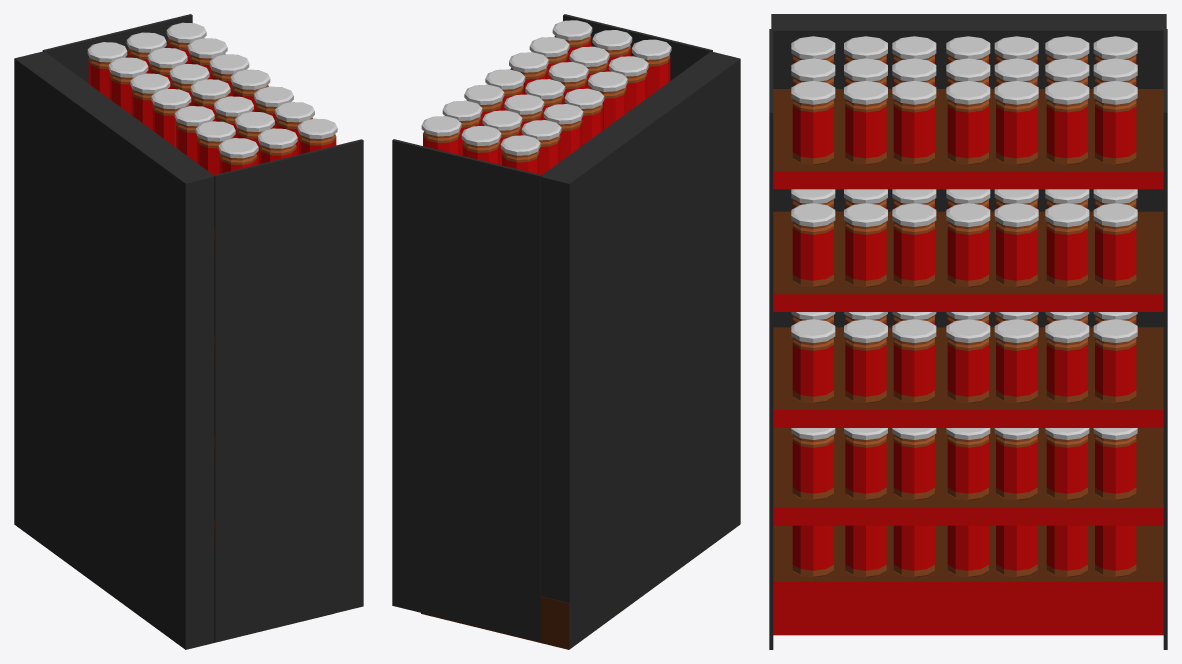
Rendered from Jar_red_shelf.fbx.
The picture shows the model from 3 angles, left to right: view 1: azimuth 30°, elevation 25°; view 2: azimuth 150°, elevation 25°; view 3: azimuth 270°, elevation 25°; orthographic projection. The views are drawn at different scales.
Parts seen in each view (by area): view 1: pCube2, pCube46, pCube7, jar_red9, jar_red15, jar_red3, jar_red6, jar_red, jar_red12, jar_red20, jar_red19, jar_red18 (+12 smaller); view 2: pCube2, pCube7, pCube1, pCube46, jar_red12, jar_red20, jar_red6, jar_red15, jar_red9, jar_red3, jar_red1, jar_red (+13 smaller); view 3: pCube1, pCube2, pCube6, pCube3, pCube4, pCube5, jar_red40, jar_red34, jar_red38, jar_red44, jar_red46, jar_red30 (+52 smaller).
Part boxes in pixels (bbox=[...]): pCube2: bbox=[14, 51, 214, 649]; pCube46: bbox=[213, 139, 363, 642]; pCube7: bbox=[42, 14, 192, 83]; jar_red9: bbox=[151, 88, 191, 147]; jar_red15: bbox=[195, 121, 235, 175]; jar_red3: bbox=[108, 57, 148, 114]; jar_red6: bbox=[130, 73, 170, 130]; jar_red: bbox=[87, 42, 127, 98]; jar_red12: bbox=[174, 106, 214, 162]; jar_red20: bbox=[218, 138, 258, 173]; jar_red19: bbox=[258, 128, 297, 164]; jar_red18: bbox=[297, 118, 337, 154]; pCube2: bbox=[541, 51, 740, 649]; pCube7: bbox=[392, 139, 542, 641]; pCube1: bbox=[421, 525, 739, 649]; pCube46: bbox=[563, 14, 712, 80]; jar_red12: bbox=[588, 71, 627, 129]; jar_red20: bbox=[631, 39, 671, 97]; jar_red6: bbox=[543, 104, 583, 161]; jar_red15: bbox=[609, 56, 648, 112]; jar_red9: bbox=[564, 88, 604, 145]; jar_red3: bbox=[521, 120, 561, 174]; jar_red1: bbox=[461, 125, 501, 164]; jar_red: bbox=[500, 135, 540, 174]; pCube1: bbox=[773, 525, 1163, 635]; pCube2: bbox=[771, 14, 1166, 327]; pCube6: bbox=[773, 89, 1163, 189]; pCube3: bbox=[773, 428, 1163, 525]; pCube4: bbox=[773, 327, 1163, 427]; pCube5: bbox=[773, 211, 1163, 311]; jar_red40: bbox=[994, 203, 1038, 287]; jar_red34: bbox=[892, 203, 936, 287]; jar_red38: bbox=[946, 203, 990, 287]; jar_red44: bbox=[1045, 203, 1089, 287]; jar_red46: bbox=[1093, 203, 1137, 287]; jar_red30: bbox=[791, 203, 835, 287].
Bounding box in the file's own units: 0.5983 × 1.53 × 1.01.
